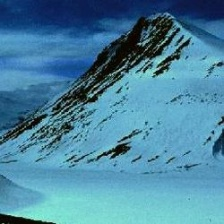neutral: (3, 7, 224, 206)
